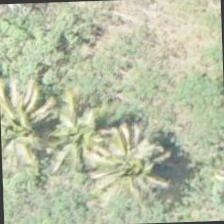Kelapa_Sawit: (25, 108, 118, 201), (83, 115, 176, 208), (0, 68, 58, 161)
